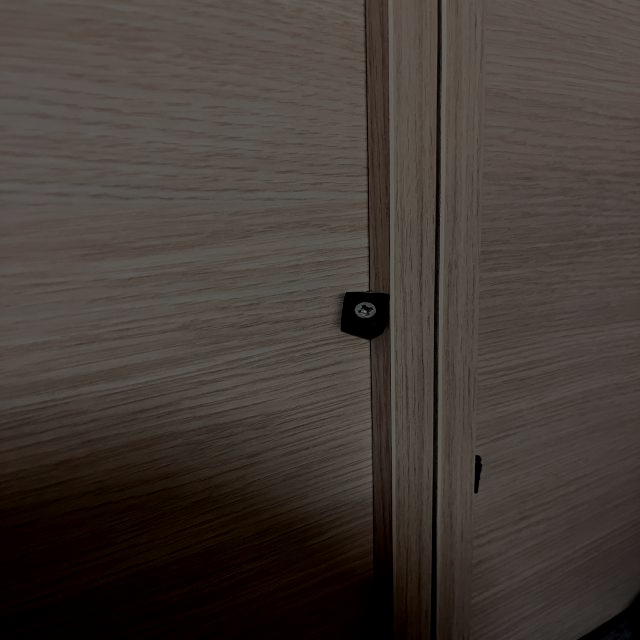pozidriv: (354, 302, 377, 319)
